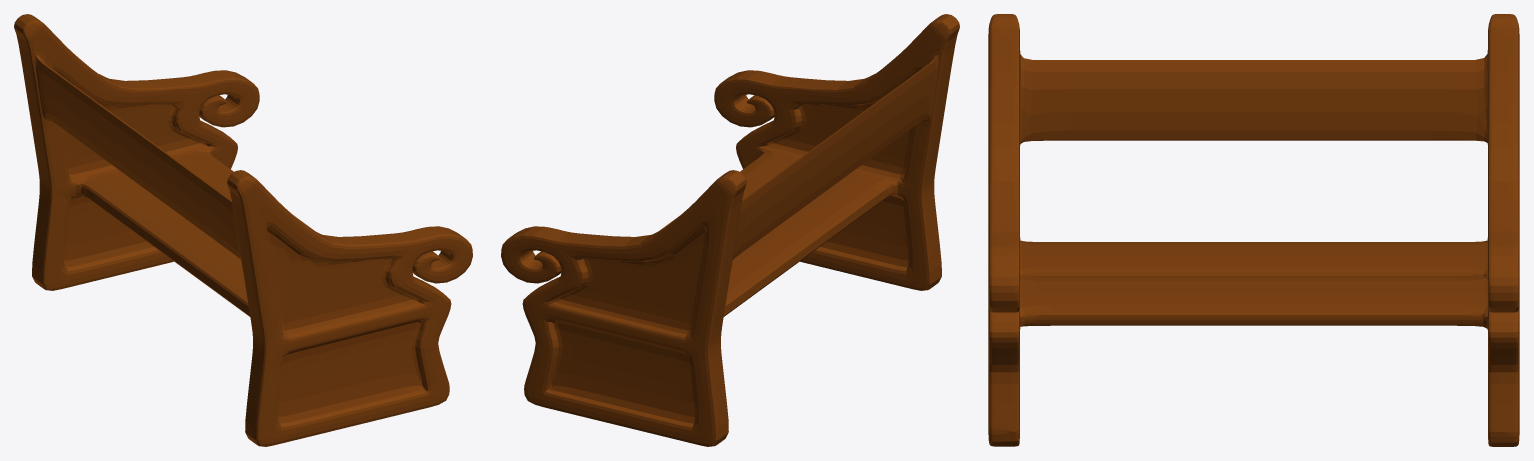
The model's file is benchbymaria.fbx.
3 views of the same model, side by side, from view 1: azimuth 30°, elevation 25°; view 2: azimuth 150°, elevation 25°; view 3: azimuth 270°, elevation 25° (orthographic). The views are drawn at different scales.
Visible parts, largest first — view 1: Cube.001; view 2: Cube.001; view 3: Cube.001.
Part boxes in pixels (x1,y1,x2,y2): Cube.001: (14,14,472,446); Cube.001: (501,14,959,446); Cube.001: (988,14,1519,446).
Size of the model in its own units: 121 by 134 by 201.
